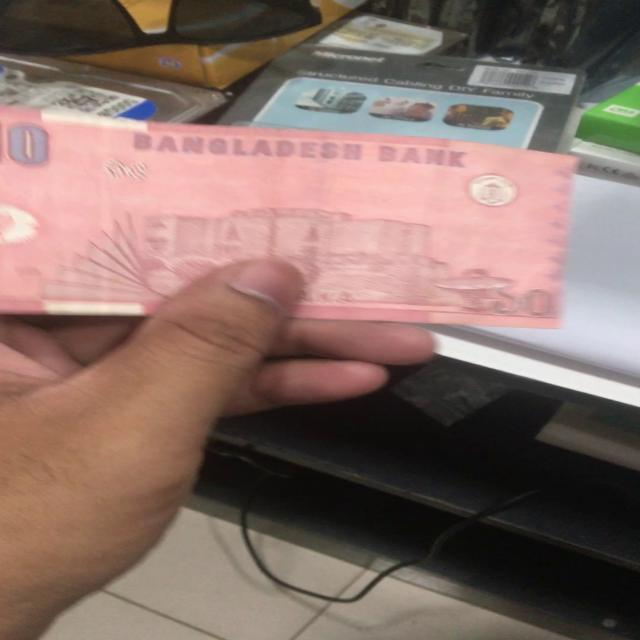Taka: (0, 109, 559, 323)
